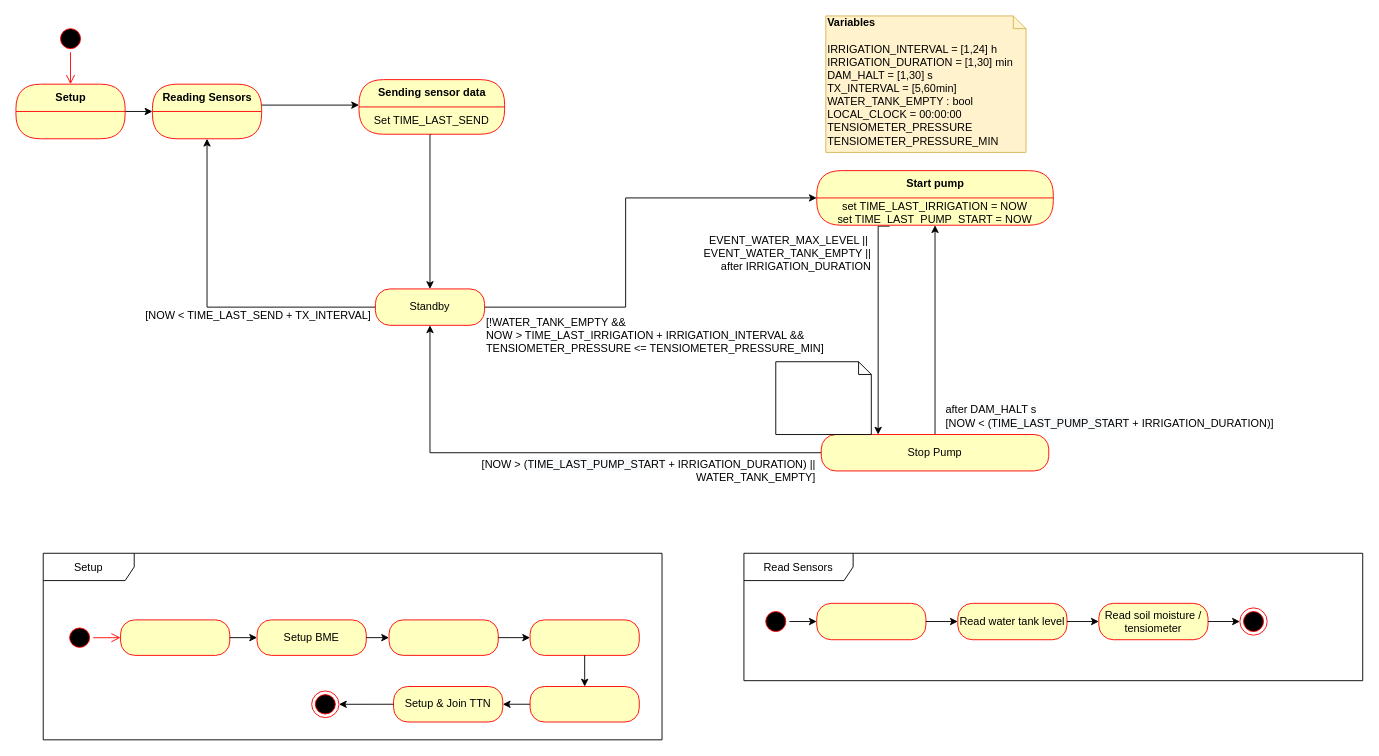
The diagram is 1379 pixels wide and 756 high, and some of its shapes have lost their labels. Each missing label, with the box of its shape:
EVENT WATER TANK EMPTY soll als Interrupt des Schwimmers umgesetzt werden: (775, 361, 871, 435)
plausibility test: (529, 686, 639, 722)
Read BME: (816, 602, 926, 640)
Reading BME: (388, 619, 498, 655)
Reading water tank level: (529, 619, 639, 655)
Set local clock: (120, 619, 230, 655)
